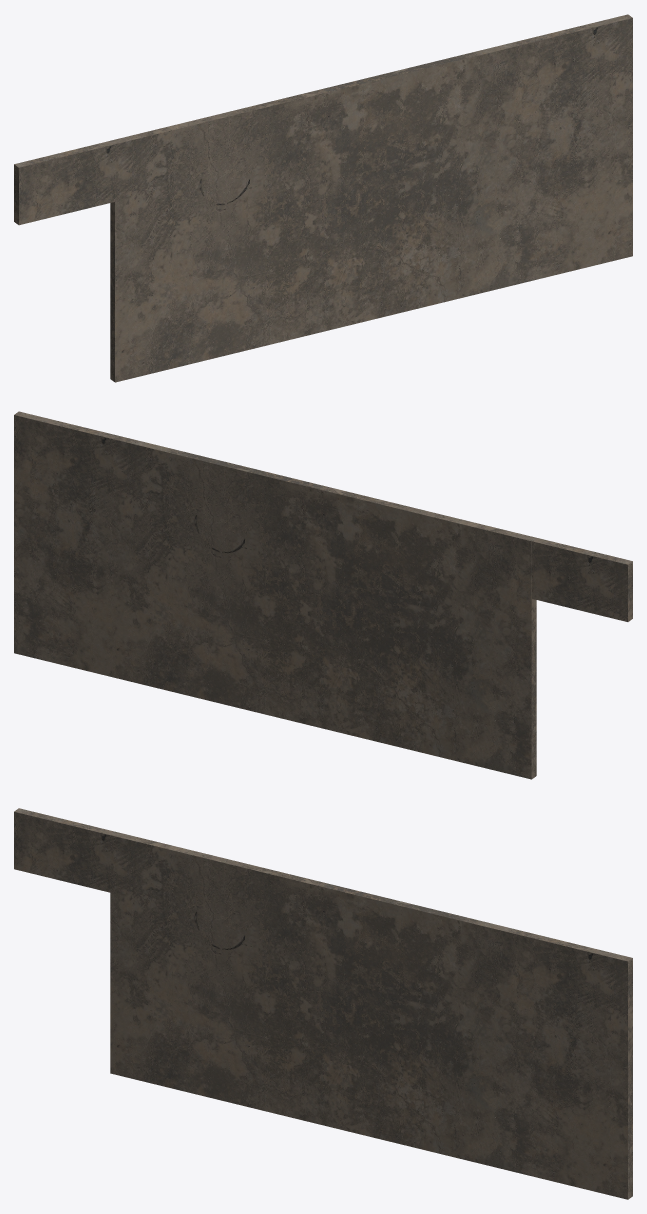
Rendered from Wall.fbx.
3 views of the same model, one above another, from view 1: azimuth 30°, elevation 25°; view 2: azimuth 150°, elevation 25°; view 3: azimuth 330°, elevation 25° (orthographic).
Parts seen in each view (by area): view 1: SM_MERGED_StaticMeshActor_687_LOD0; view 2: SM_MERGED_StaticMeshActor_687_LOD0; view 3: SM_MERGED_StaticMeshActor_687_LOD0.
Boxes of the visible parts, bbox=[...] form: SM_MERGED_StaticMeshActor_687_LOD0: bbox=[14, 14, 632, 382]; SM_MERGED_StaticMeshActor_687_LOD0: bbox=[14, 411, 632, 779]; SM_MERGED_StaticMeshActor_687_LOD0: bbox=[14, 808, 632, 1199].
Bounding box in the file's own units: 947 × 351 × 13.12.
